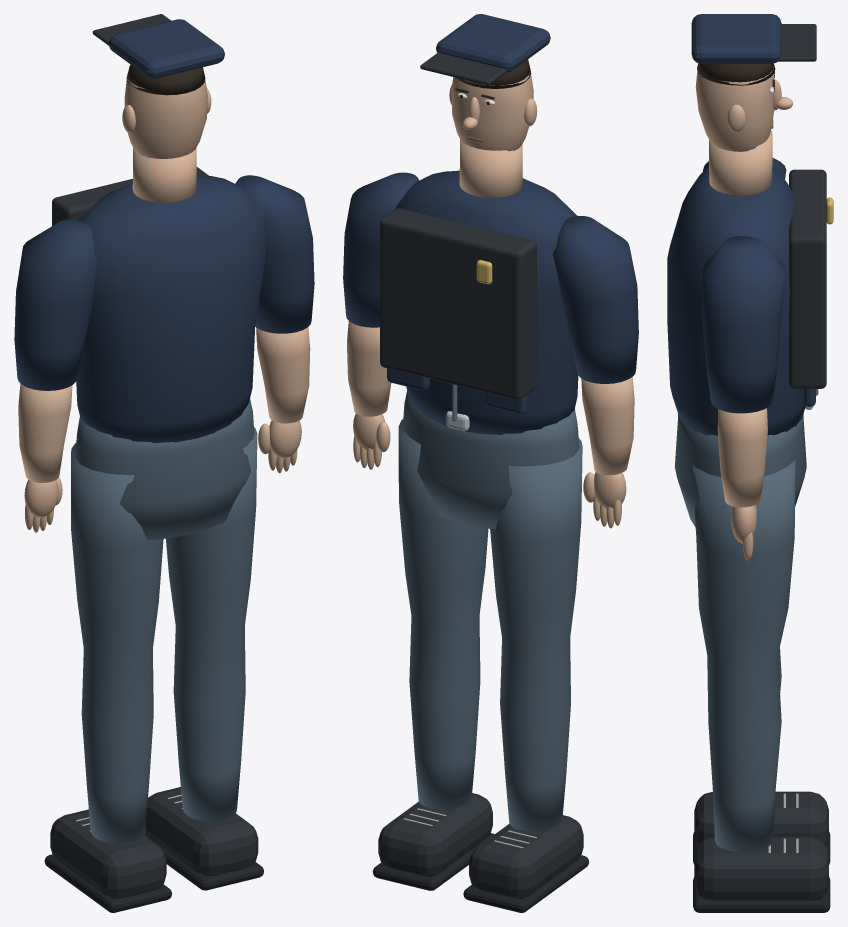
File: Officer.fbx
The picture shows the model from 3 angles, left to right: view 1: azimuth 30°, elevation 25°; view 2: azimuth 150°, elevation 25°; view 3: azimuth 270°, elevation 25°; orthographic projection. The views are drawn at different scales.
Visible parts, largest first — view 1: Body.018, Leg_L.003, Leg_R.003, Arm_L.003, Arm_R.003, Head.003; view 2: Body.018, Leg_L.003, Leg_R.003, Arm_L.003, Head.003, Arm_R.003; view 3: Leg_R.003, Body.018, Arm_R.003, Head.003, Leg_L.003.
Part boxes in pixels (x1,y1,x2,y2): Body.018: [52, 147, 265, 540]; Leg_L.003: [44, 443, 172, 912]; Leg_R.003: [144, 427, 263, 890]; Arm_L.003: [14, 219, 97, 532]; Arm_R.003: [235, 175, 314, 473]; Head.003: [92, 14, 224, 158]; Body.018: [380, 139, 579, 529]; Leg_L.003: [463, 438, 589, 912]; Leg_R.003: [372, 419, 494, 890]; Arm_L.003: [552, 216, 638, 528]; Head.003: [420, 14, 550, 151]; Arm_R.003: [343, 172, 419, 469]; Leg_R.003: [692, 460, 830, 912]; Body.018: [667, 130, 833, 526]; Arm_R.003: [702, 236, 786, 560]; Head.003: [691, 14, 816, 151]; Leg_L.003: [693, 647, 830, 864].
Bounding box in the file's own units: 0.644 × 1.78 × 0.317.
